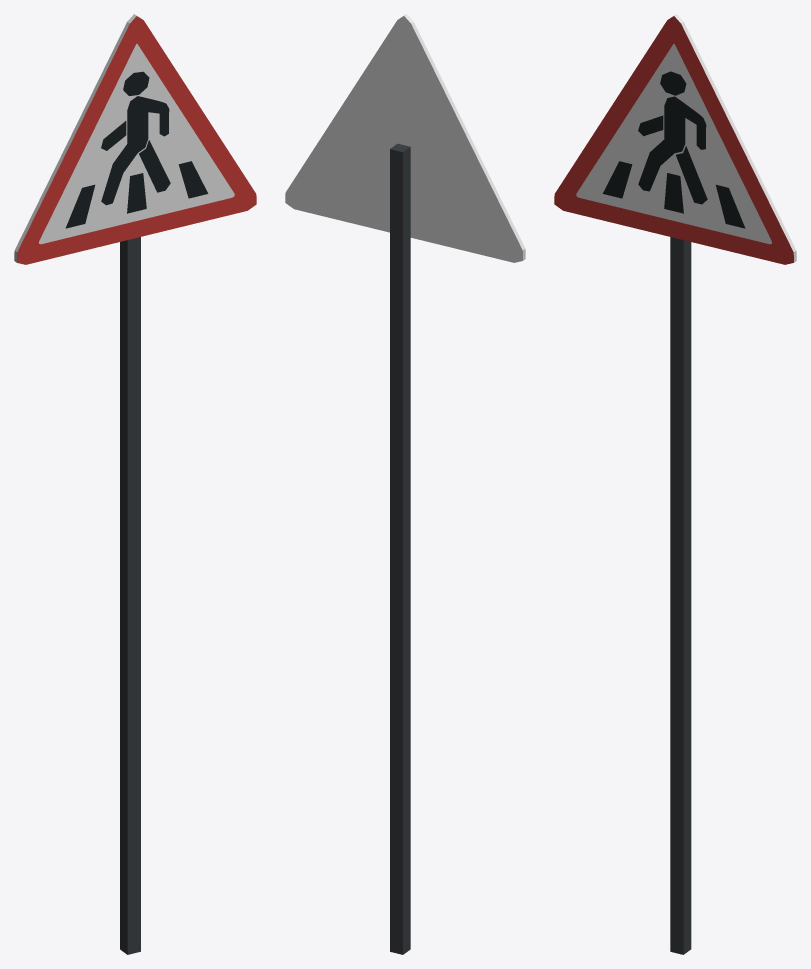
File: SM_FloorProps_RoadSign_08.fbx
3 views of the same model, side by side, from view 1: azimuth 30°, elevation 25°; view 2: azimuth 150°, elevation 25°; view 3: azimuth 330°, elevation 25° (orthographic).
Parts seen in each view (by area): view 1: SM_FloorProps_RoadSign_08; view 2: SM_FloorProps_RoadSign_08; view 3: SM_FloorProps_RoadSign_08.
Part boxes in pixels (left/top/right/bottom): SM_FloorProps_RoadSign_08: left=14, top=14, right=256, bottom=954; SM_FloorProps_RoadSign_08: left=285, top=14, right=525, bottom=954; SM_FloorProps_RoadSign_08: left=554, top=14, right=796, bottom=954.
Size of the model in its own units: 0.7755 by 2.9 by 0.0599.
